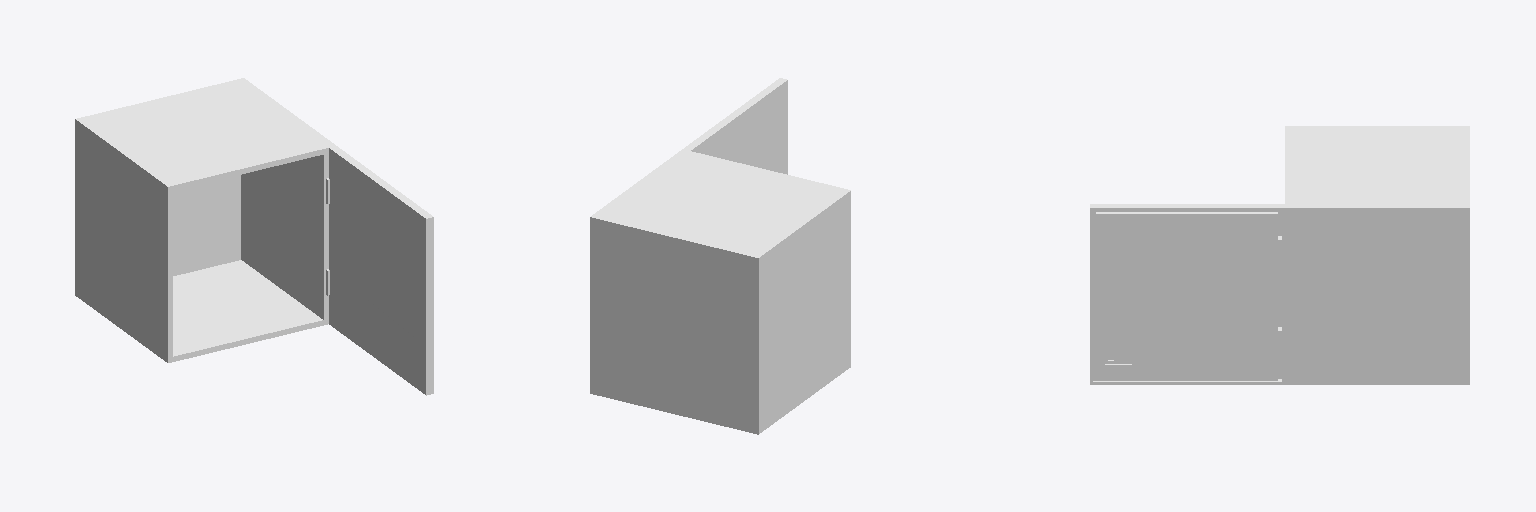
The model's file is SAMulHamOpen.obj.
3 renders of one model, left to right at view 1: azimuth 30°, elevation 25°; view 2: azimuth 150°, elevation 25°; view 3: azimuth 270°, elevation 25°, orthographic.
Visible parts, largest first — view 1: object 1; view 2: object 1; view 3: object 1.
Part boxes in pixels (x1,y1,x2,y2): object 1: (75, 78, 433, 395); object 1: (590, 78, 850, 434); object 1: (1090, 126, 1469, 384).
Bounding box in the file's own units: 6.5 × 6.4 × 12.5.